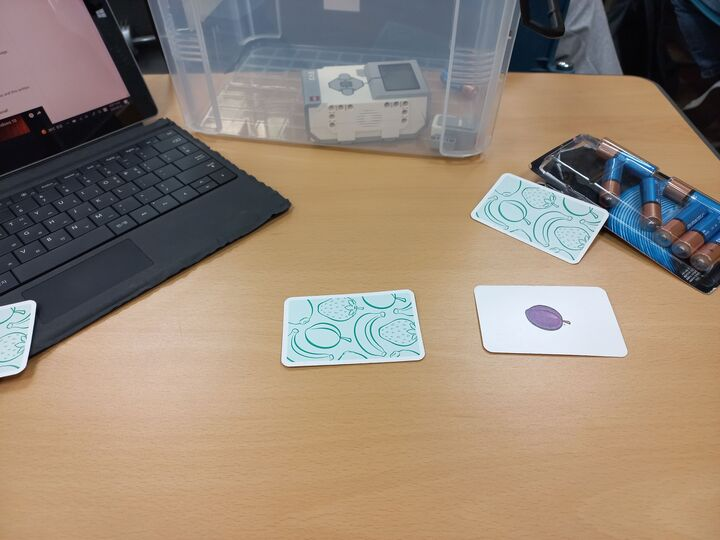plum1: (472, 281, 630, 360)
